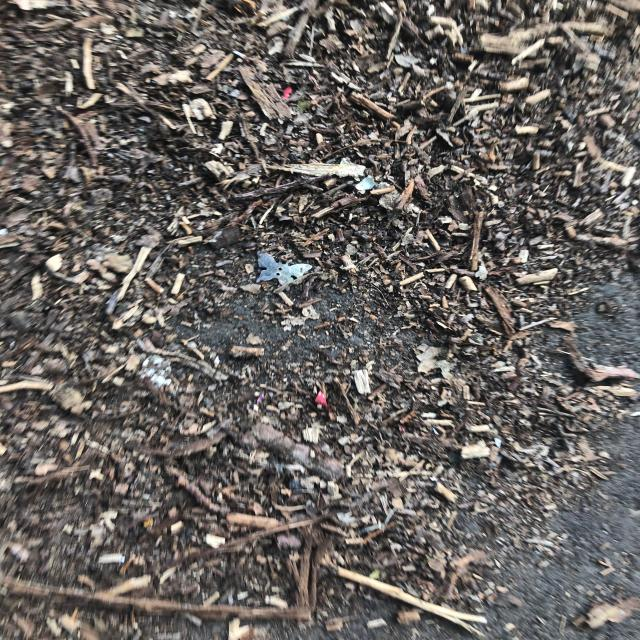litter: (334, 234, 539, 289)
